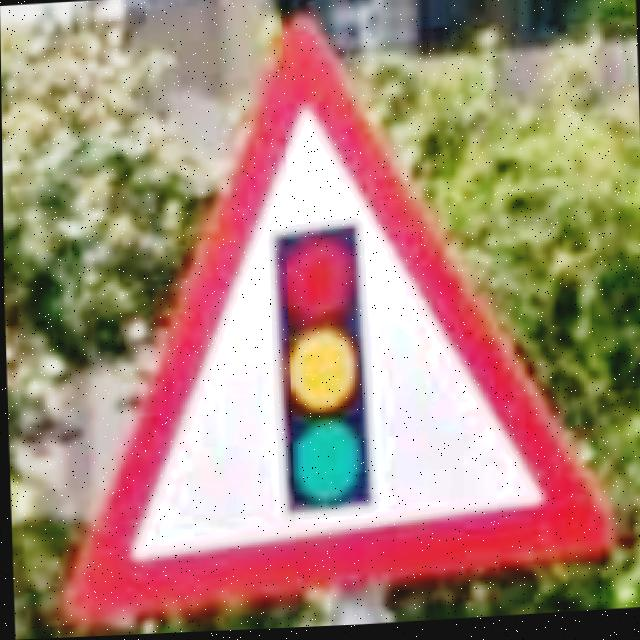signalahead: (65, 27, 610, 617)
